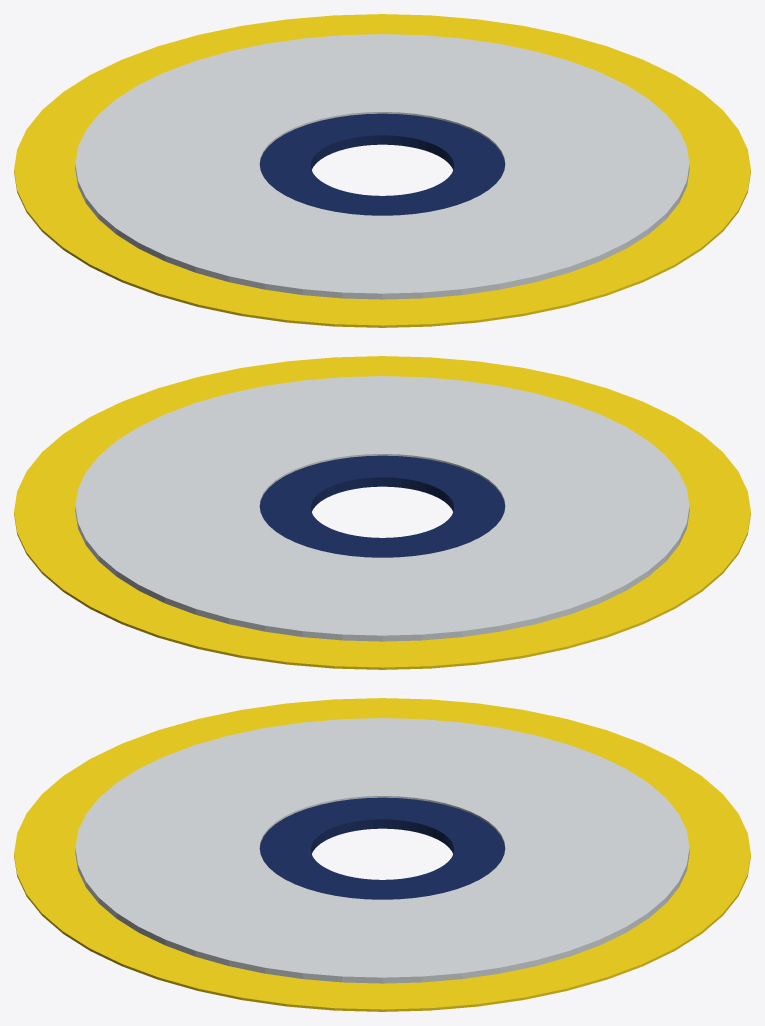
Rendered from Disc.obj.
3 renders of one model, top to bottom at view 1: azimuth 30°, elevation 25°; view 2: azimuth 150°, elevation 25°; view 3: azimuth 270°, elevation 25°, orthographic.
Visible parts, largest first — view 1: Disc; view 2: Disc; view 3: Disc.
Part boxes in pixels (x1,y1,x2,y2): Disc: (14,14,750,327); Disc: (14,356,750,669); Disc: (14,698,750,1011).
Size of the model in its own units: 7.2 by 0.12 by 7.2.
